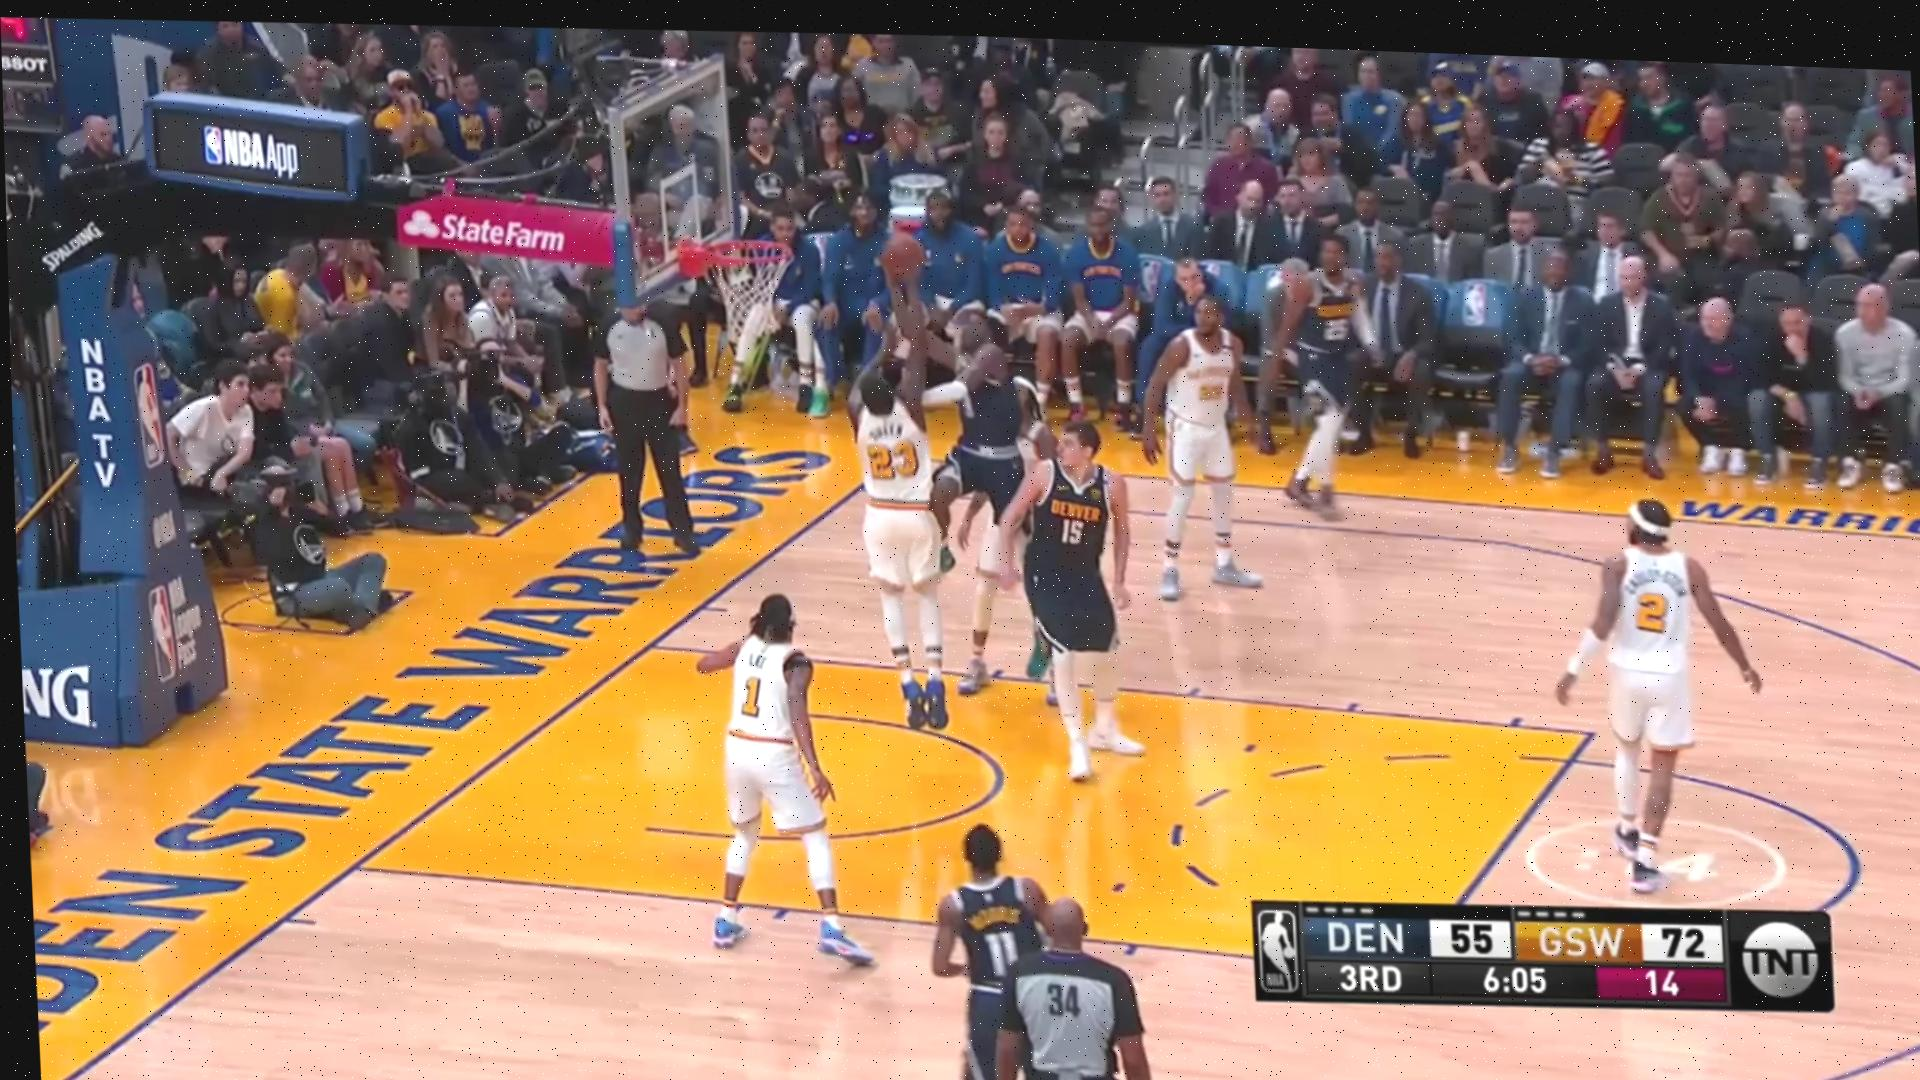foul: (853, 311, 1015, 650)
